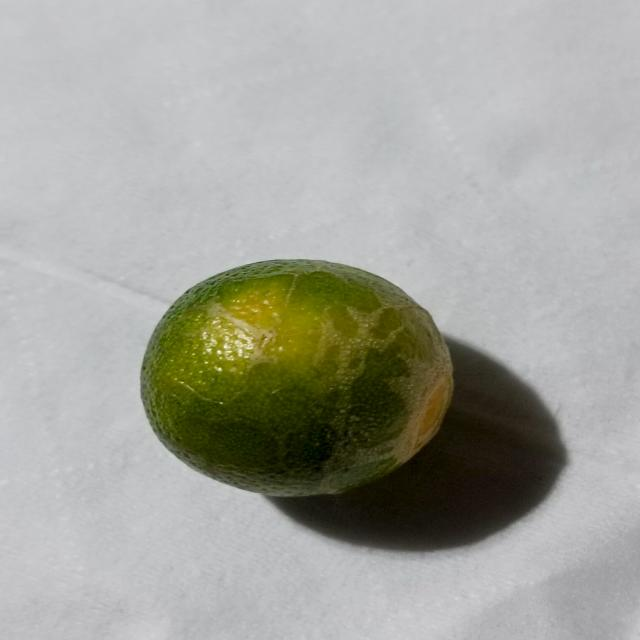thrips: (137, 248, 456, 503)
